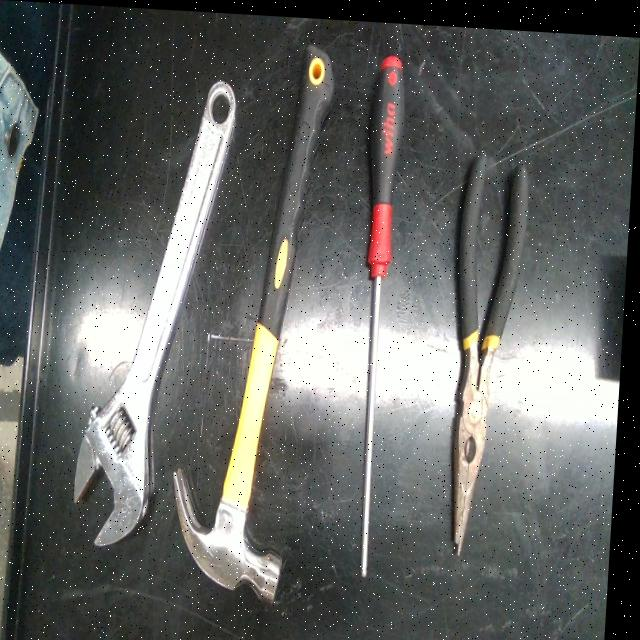Screwdriver: (367, 49, 406, 572)
